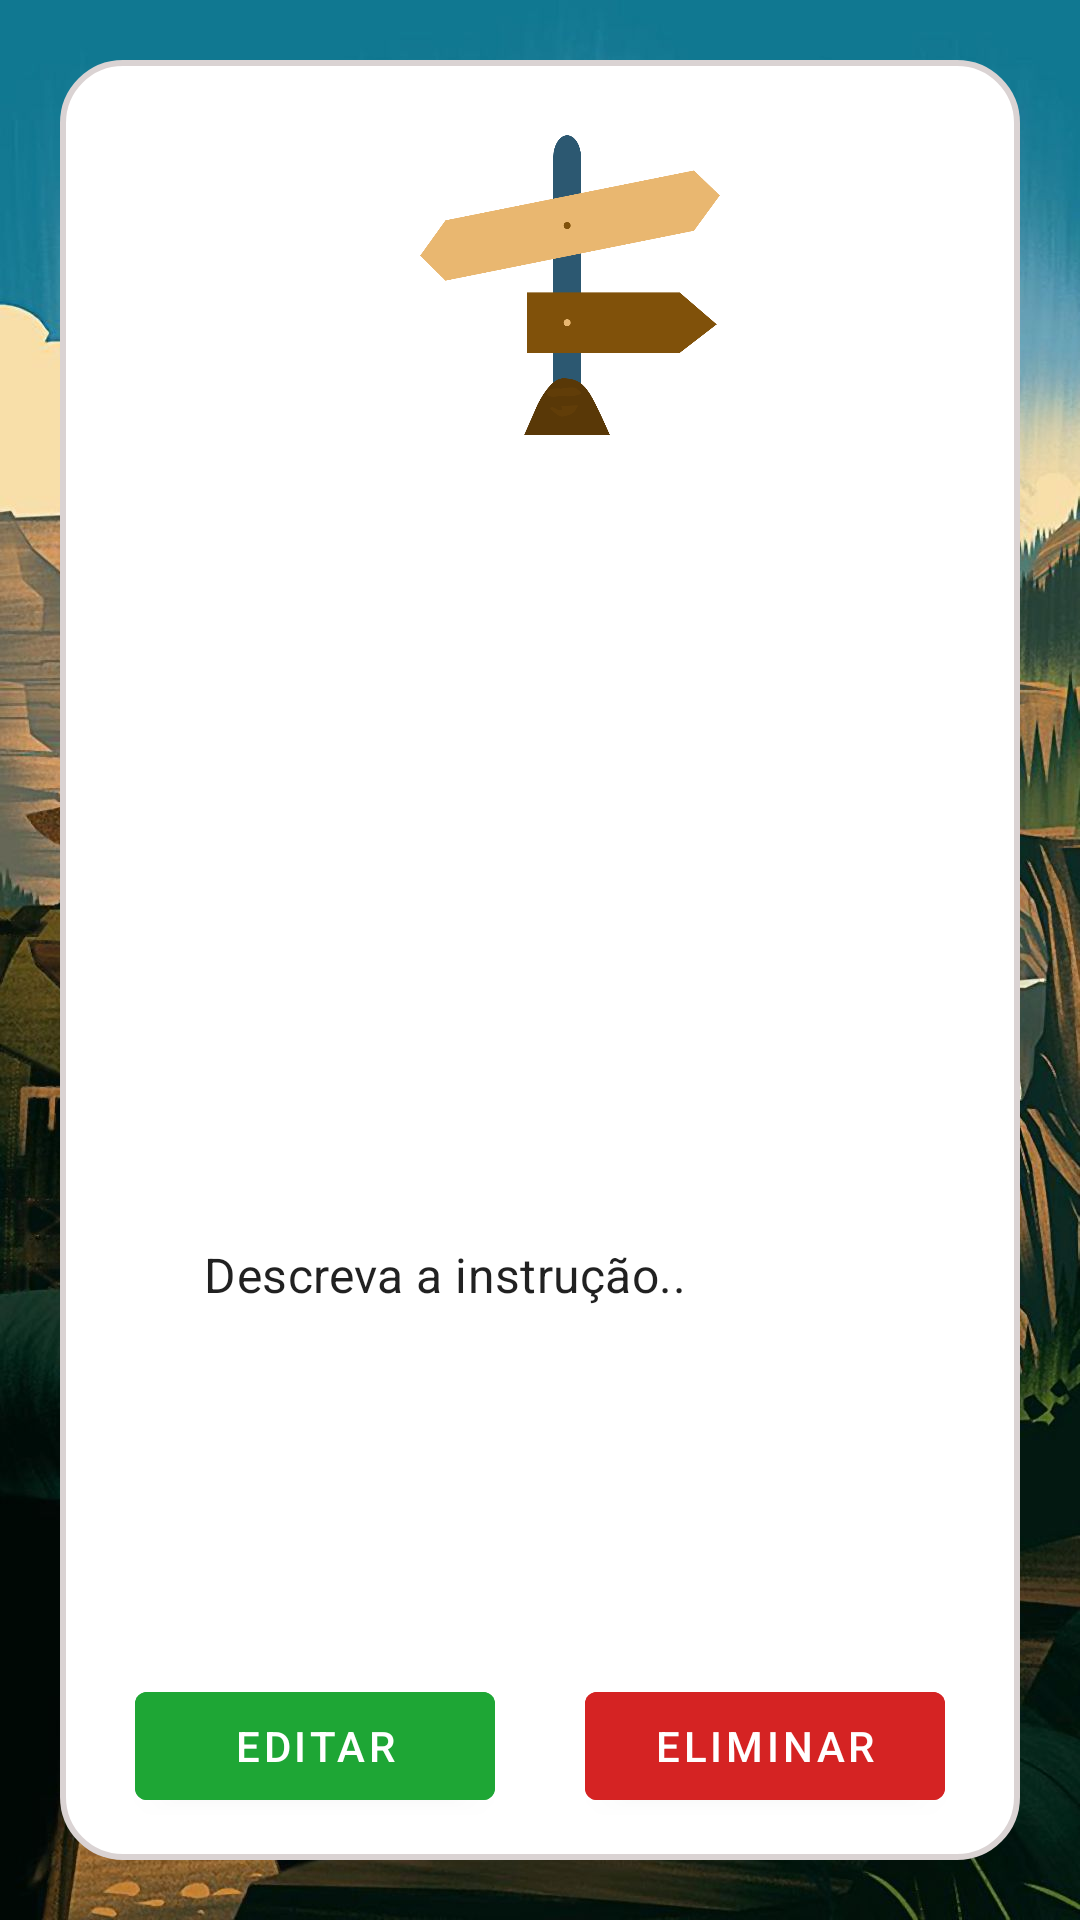

Where icons sit on this 1080×1920 app screen, as (x1, y1, x2, y2):
instructions: (420, 135, 720, 435)
